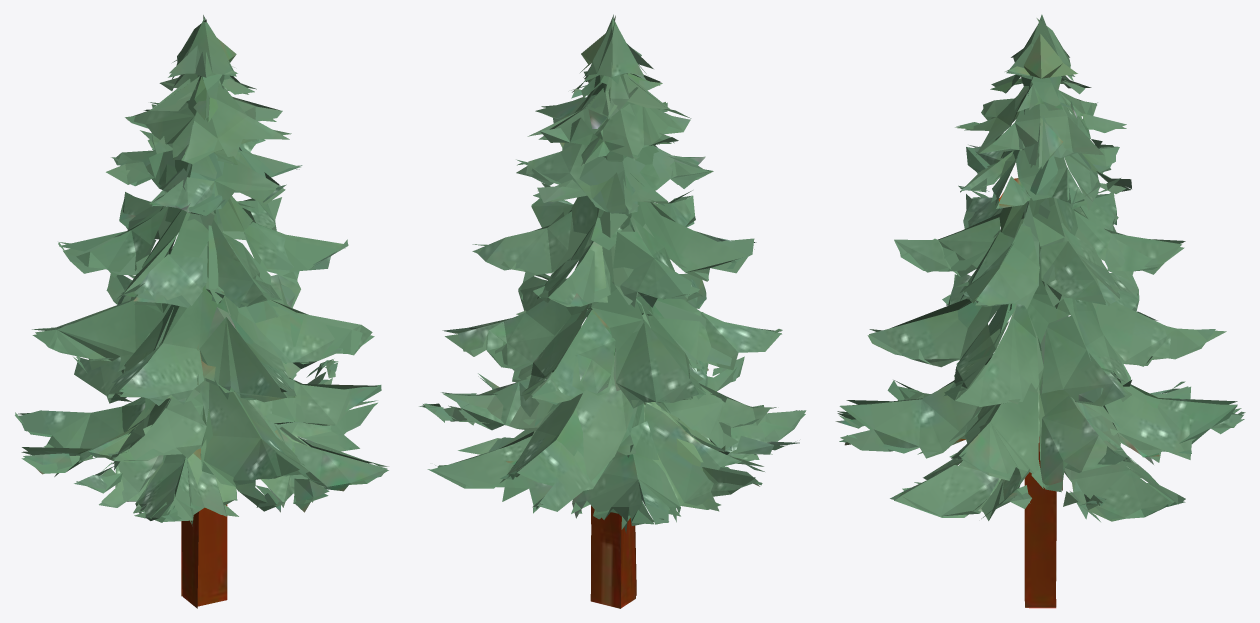
Rendered from tree_pine.glb.
The picture shows the model from 3 angles, left to right: view 1: azimuth 30°, elevation 25°; view 2: azimuth 150°, elevation 25°; view 3: azimuth 270°, elevation 25°; orthographic projection.
Parts seen in each view (by area): view 1: obj.obj; view 2: obj.obj; view 3: obj.obj.
Boxes of the visible parts, left/top/right/bottom form: obj.obj: left=15, top=15, right=388, bottom=608; obj.obj: left=419, top=14, right=806, bottom=608; obj.obj: left=835, top=14, right=1245, bottom=608.
Size of the model in its own units: 5.31 by 9 by 5.69.
1 material, 1 textured.
